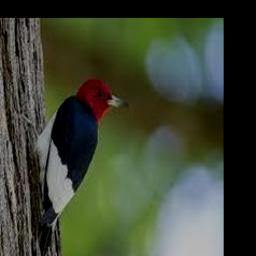Woodpecker: (22, 78, 129, 256)
